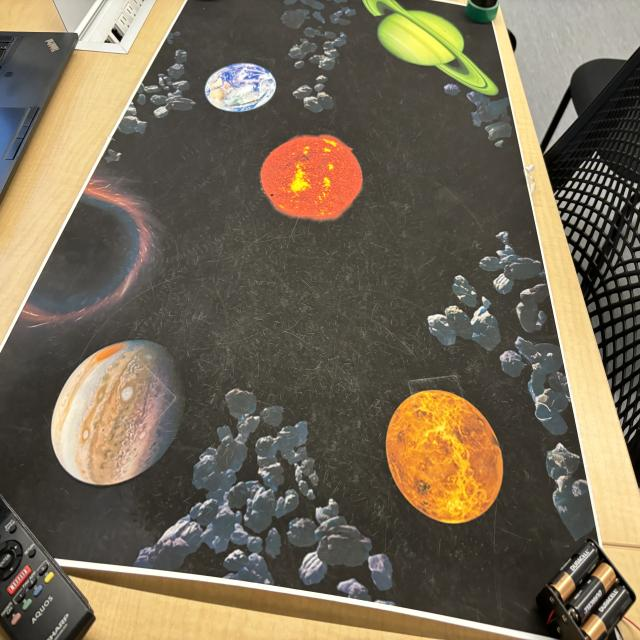Asteroids: (172, 367, 394, 604), (435, 239, 586, 536), (105, 42, 196, 162), (288, 0, 354, 109), (464, 87, 514, 151)
Black Hole: (23, 174, 149, 318)
Earth: (203, 62, 277, 109)
Jupiter: (48, 341, 183, 493)
Saturn: (361, 0, 497, 97)
Sun: (262, 134, 362, 216)
Venus: (386, 384, 504, 525)
